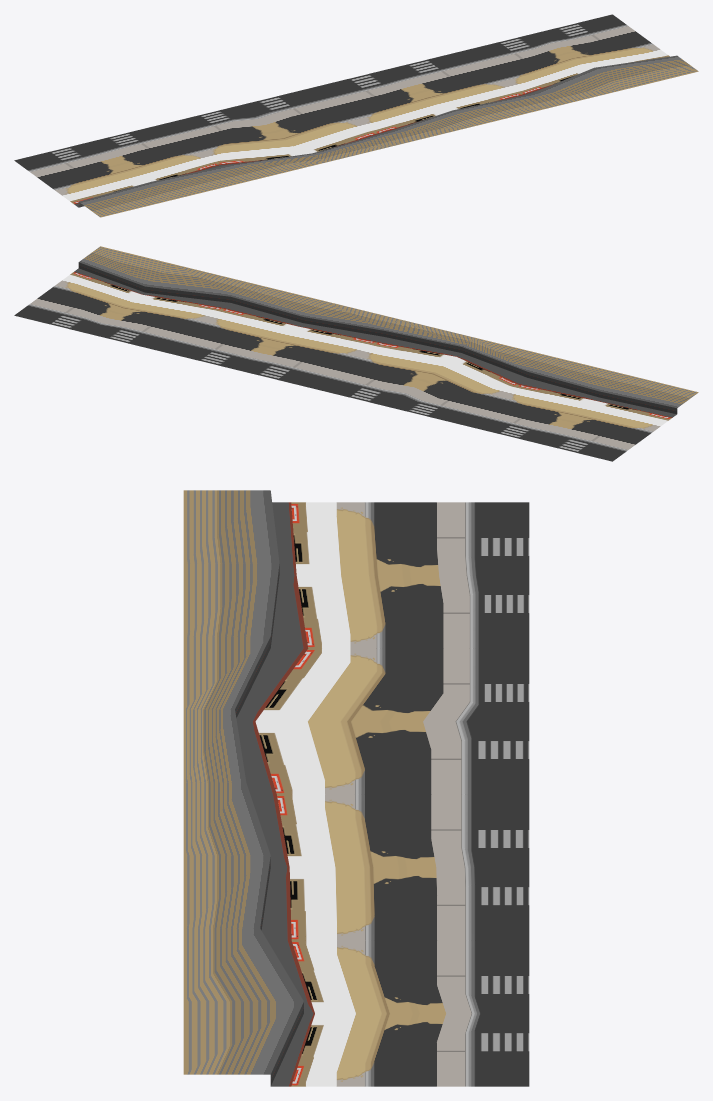
The model's file is road_Dirt_Long.gltf.
3 renders of one model, top to bottom at view 1: azimuth 30°, elevation 25°; view 2: azimuth 150°, elevation 25°; view 3: azimuth 270°, elevation 25°, orthographic. The views are drawn at different scales.
Parts seen in each view (by area): view 1: road_Dirt_Long; view 2: road_Dirt_Long; view 3: road_Dirt_Long.
Boxes of the visible parts, x1,y1,x2,y2 form: road_Dirt_Long: [14, 14, 698, 217]; road_Dirt_Long: [14, 246, 698, 461]; road_Dirt_Long: [183, 490, 529, 1086].
Size of the model in its own units: 20 by 0.1948 by 5.
Materials: 1 (1 with a texture image).
